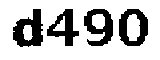0: (115, 6, 149, 51)
4: (46, 7, 81, 52)
9: (82, 4, 114, 49)
d: (9, 5, 43, 49)
